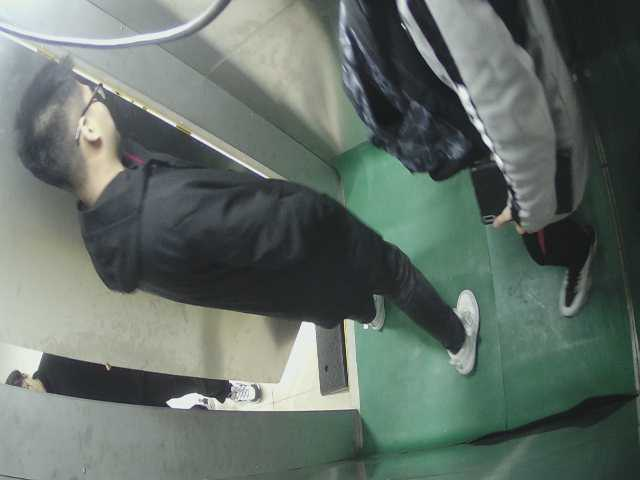bag: (326, 4, 482, 195)
person: (17, 50, 498, 375)
